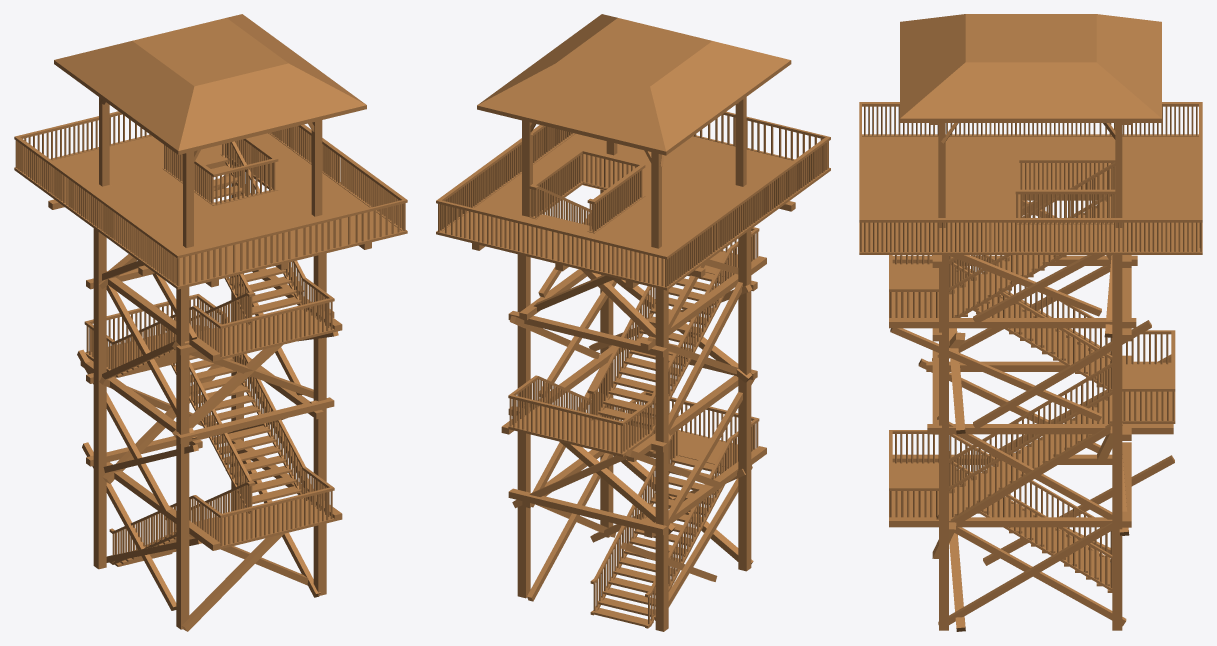
Rendered from watchtower.glb.
The picture shows the model from 3 angles, left to right: view 1: azimuth 30°, elevation 25°; view 2: azimuth 150°, elevation 25°; view 3: azimuth 270°, elevation 25°; orthographic projection. The views are drawn at different scales.
Parts seen in each view (by area): view 1: Watch Tower, Circle.034, Circle.004, Plane.002, Cube.002, Cube.001, Cube, Plane.005, Circle.021, Circle.026, Circle.002, Circle.003 (+47 smaller); view 2: Watch Tower, Circle.034, Circle.005, Cube.002, Cube.001, Plane.001, Cube.003, Plane.006, Circle.018, Circle.017, Circle.004, Circle (+45 smaller); view 3: Watch Tower, Circle.034, Circle.005, Cube.003, Circle.004, Cube, Plane.002, Circle.002, Circle.025, Circle.006, Circle.020, Circle.023 (+47 smaller).
Boxes of the visible parts, <box> form: Watch Tower: <box>54,14,366,154</box>; Circle.034: <box>112,152,407,289</box>; Circle.004: <box>195,469,334,548</box>; Plane.002: <box>175,355,303,512</box>; Cube.002: <box>93,228,106,569</box>; Cube.001: <box>176,287,189,629</box>; Cube: <box>313,253,326,595</box>; Plane.005: <box>199,155,303,323</box>; Circle.021: <box>121,177,222,225</box>; Circle.026: <box>74,142,172,189</box>; Circle.002: <box>222,312,308,500</box>; Circle.003: <box>171,333,255,513</box>; Watch Tower: <box>477,14,791,155</box>; Circle.034: <box>535,111,830,218</box>; Circle.005: <box>508,377,648,456</box>; Cube.002: <box>655,288,668,631</box>; Cube.001: <box>738,229,751,571</box>; Plane.001: <box>594,456,727,626</box>; Cube.003: <box>517,254,530,598</box>; Plane.006: <box>596,272,727,433</box>; Circle.018: <box>546,226,664,289</box>; Circle.017: <box>440,200,553,261</box>; Circle.004: <box>622,391,759,467</box>; Circle: <box>645,436,733,628</box>; Watch Tower: <box>900,14,1161,122</box>; Circle.034: <box>859,102,1020,254</box>; Circle.005: <box>1122,330,1175,423</box>; Cube.003: <box>1112,255,1122,630</box>; Circle.004: <box>889,430,938,517</box>; Cube: <box>939,255,948,630</box>; Plane.002: <box>949,395,1112,517</box>; Circle.002: <box>949,391,1112,517</box>; Circle.025: <box>1099,137,1198,164</box>; Circle.006: <box>1099,218,1202,254</box>; Circle.020: <box>996,218,1099,254</box>; Circle.023: <box>996,137,1099,164</box>.
Size of what is drawn, in the model's own units: 2.57 by 5.67 by 3.17.
